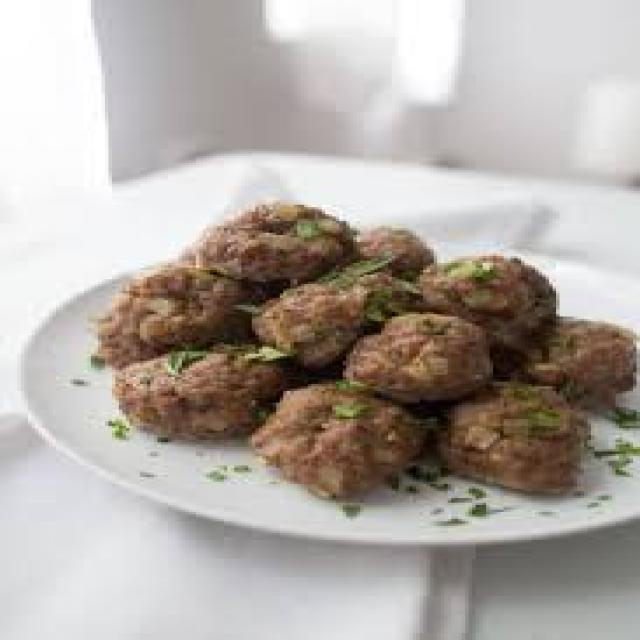meatball: (249, 377, 428, 499), (423, 382, 601, 497), (80, 258, 265, 354), (166, 193, 358, 285), (402, 242, 566, 346), (104, 344, 290, 434), (339, 304, 499, 403), (245, 274, 388, 360)
